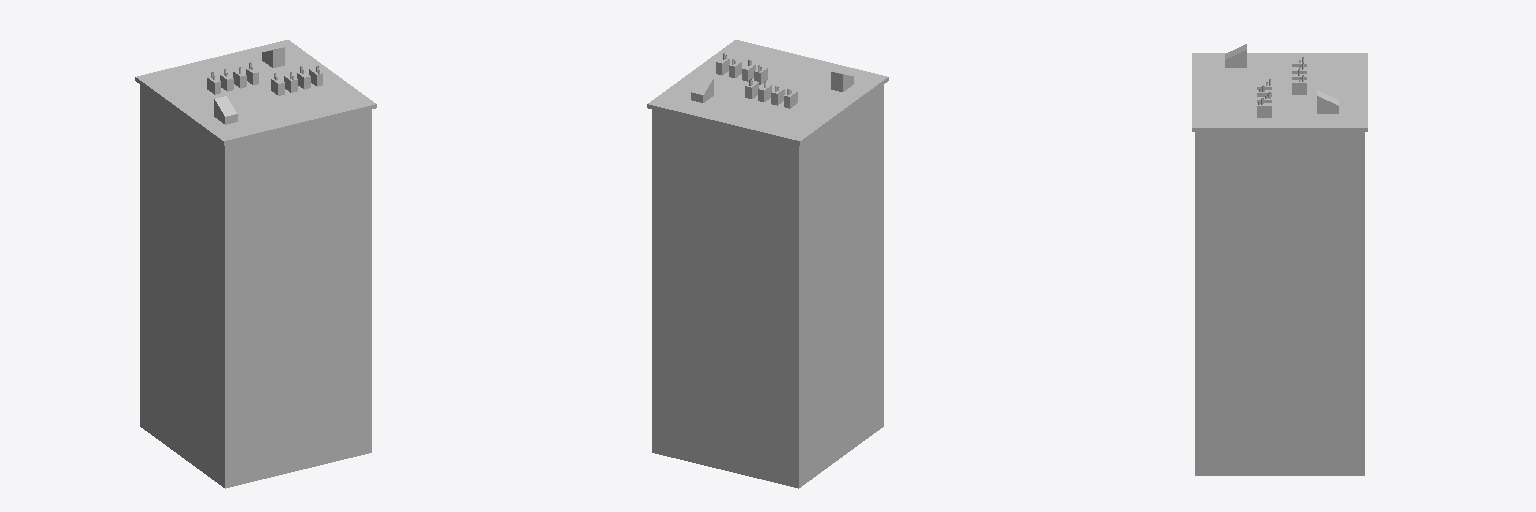
The model's file is skyscraper.obj.
3 renders of one model, left to right at view 1: azimuth 30°, elevation 25°; view 2: azimuth 150°, elevation 25°; view 3: azimuth 270°, elevation 25°, orthographic.
Parts seen in each view (by area): view 1: Building_Cube, Roof_Cube.002; view 2: Building_Cube, Roof_Cube.002; view 3: Building_Cube, Roof_Cube.002.
Part boxes in pixels (left/top/right/bottom): Building_Cube: left=135, top=40, right=376, bottom=488; Roof_Cube.002: left=207, top=47, right=322, bottom=124; Building_Cube: left=647, top=40, right=888, bottom=488; Roof_Cube.002: left=691, top=53, right=853, bottom=108; Building_Cube: left=1192, top=53, right=1367, bottom=475; Roof_Cube.002: left=1225, top=44, right=1338, bottom=117.
Size of the model in its own units: 2.08 by 4.77 by 2.08.